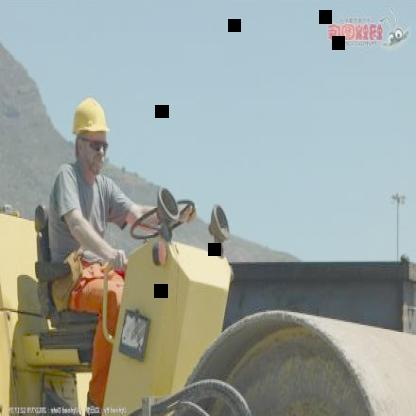helmet: (68, 96, 114, 176)
